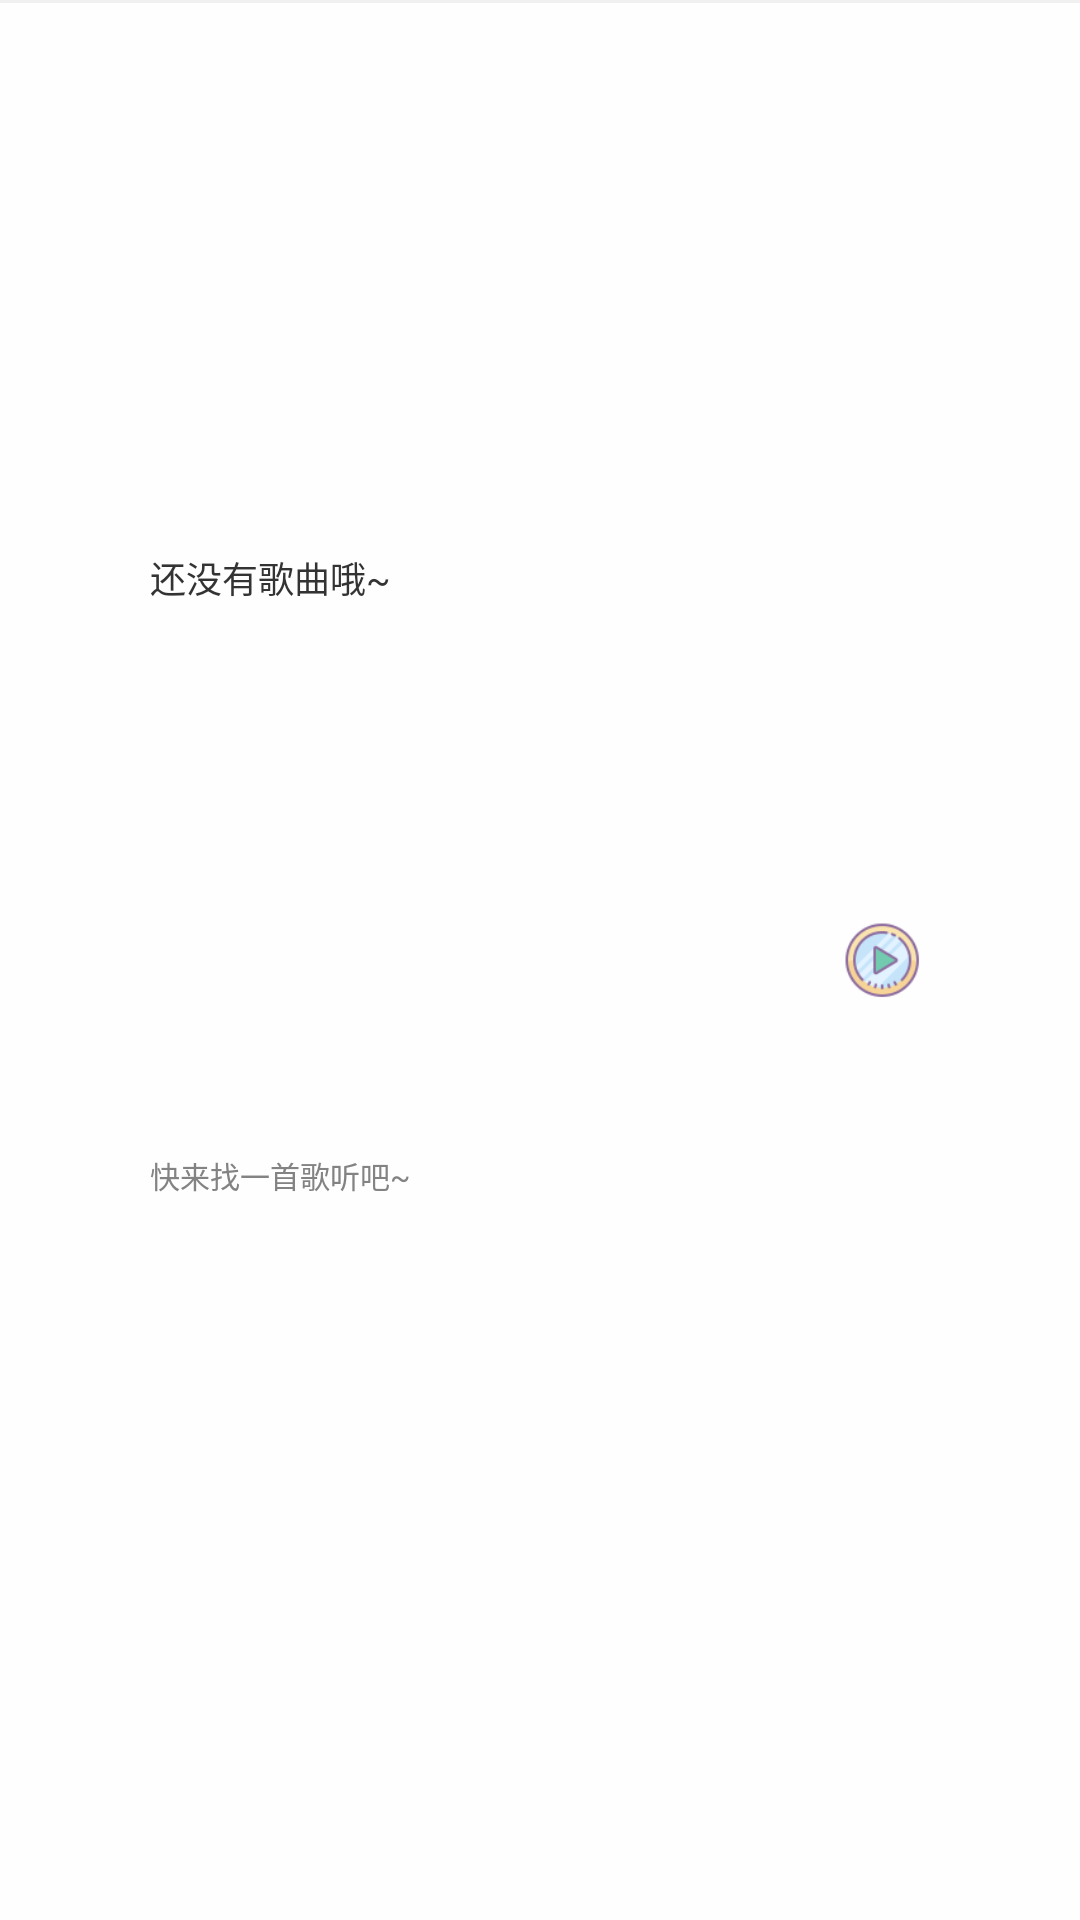

Screen size 1080 × 1920. Icon name, then its box in pixels as (x1, y1, x2, y2):
play: (845, 923, 919, 997)
